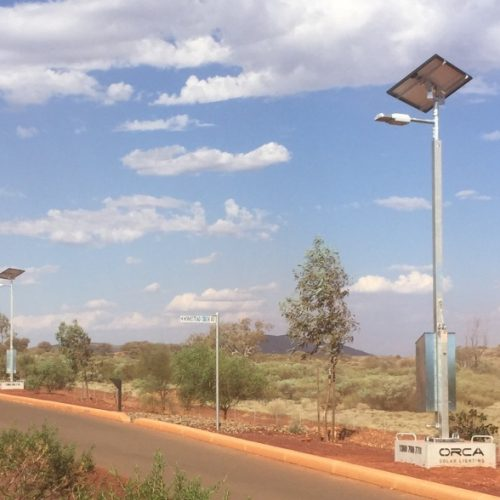light_pole: (425, 100, 450, 452), (212, 313, 224, 429), (6, 284, 16, 384)
